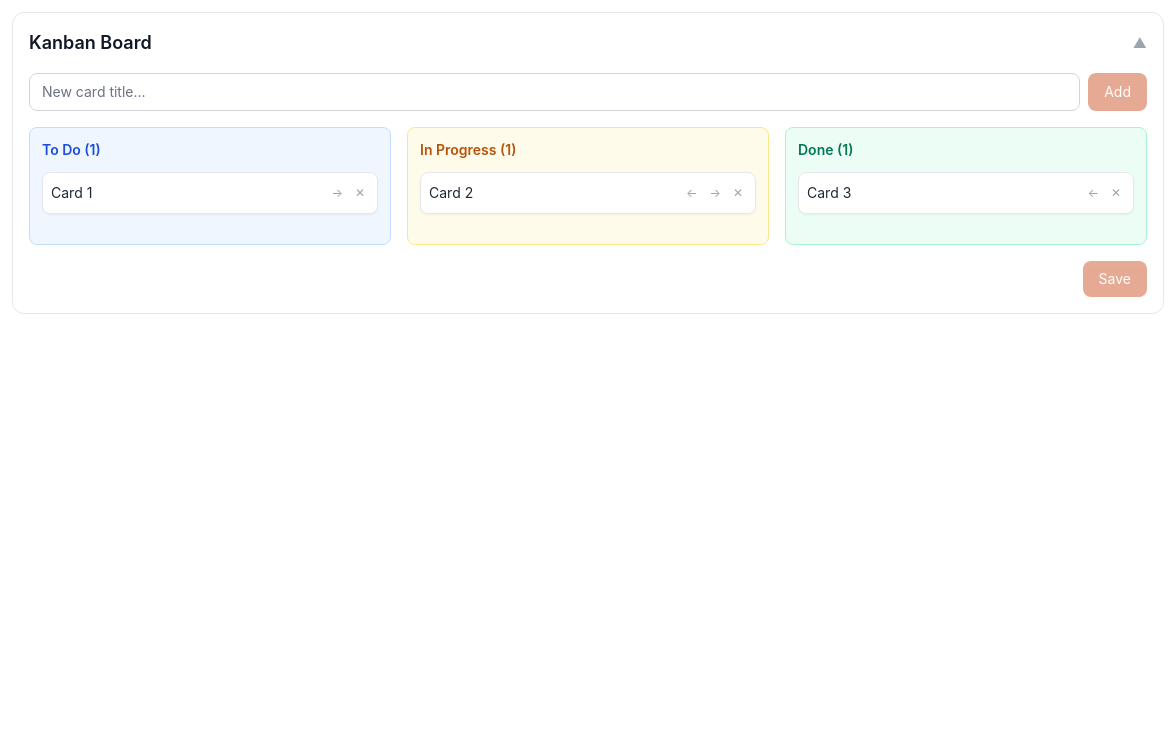
Test: KanbanBoard › shows error toast when save fails
The width and height of the screenshot is (1176, 732).
Type "New card" into the field with placeholder "New card title...".
click(555, 92); type("New card")  # box [29,73,1080,111]
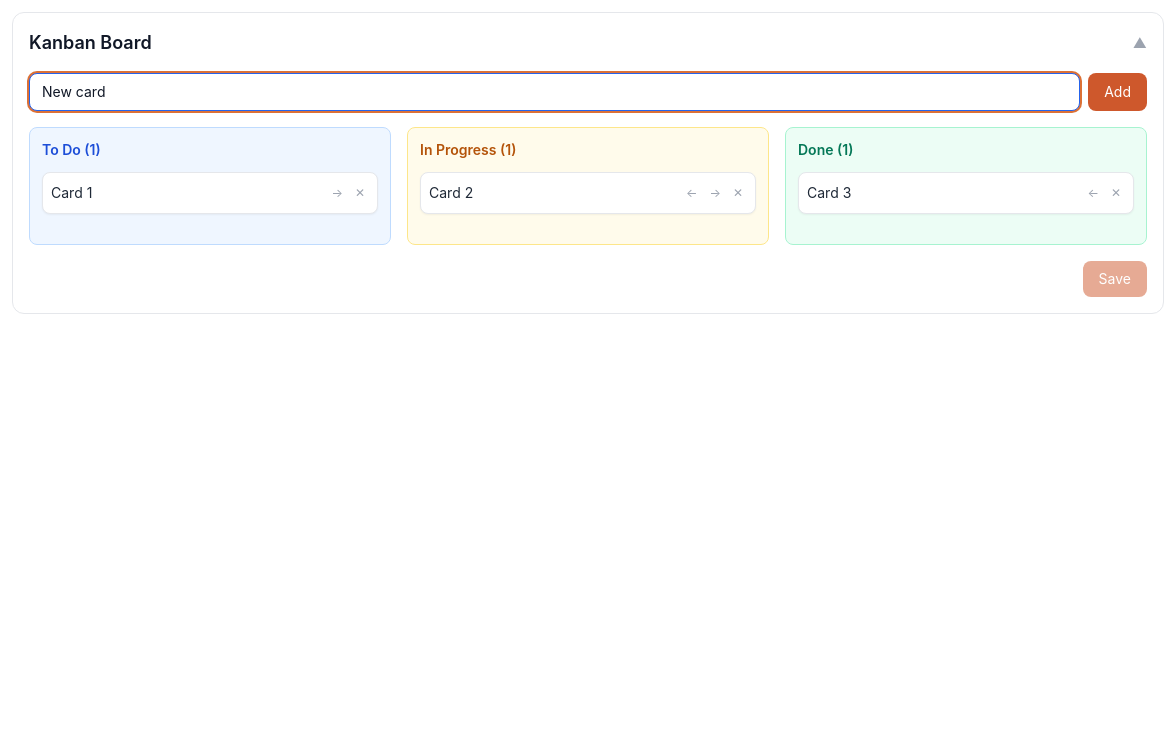
Click the button "Add".
click(1118, 92)  # box [1088,73,1147,111]
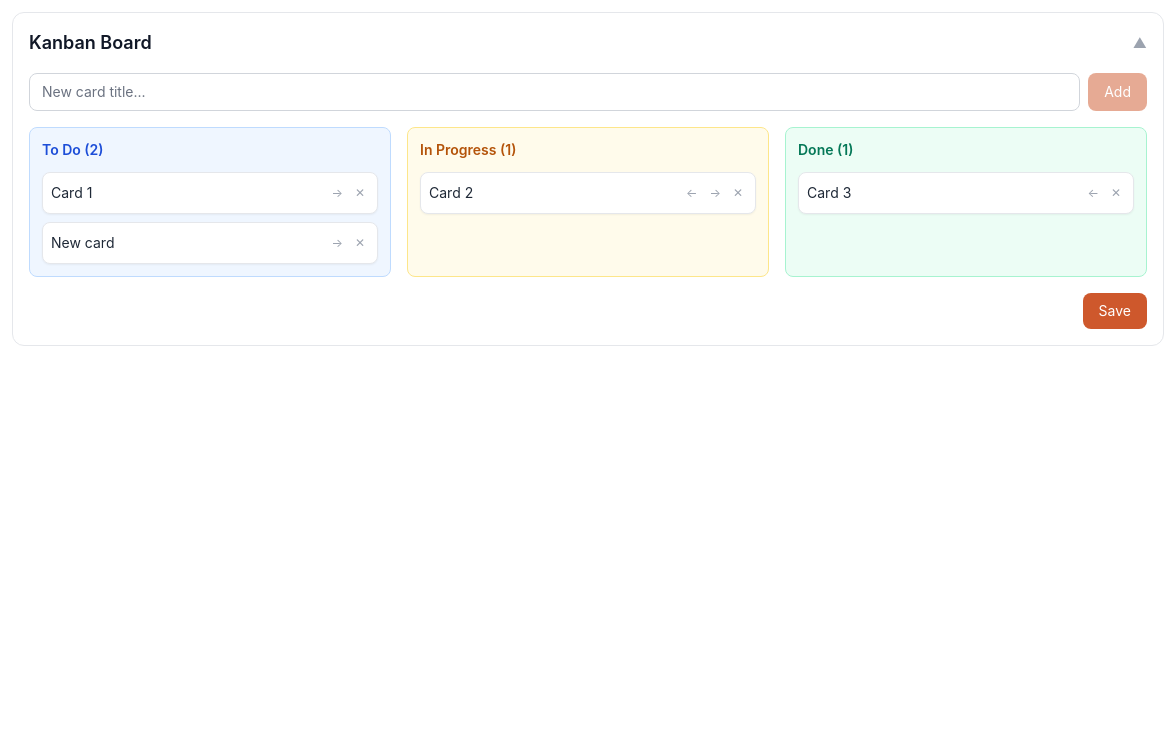
Click the button "Save".
click(1115, 311)  # box [1083,293,1147,329]
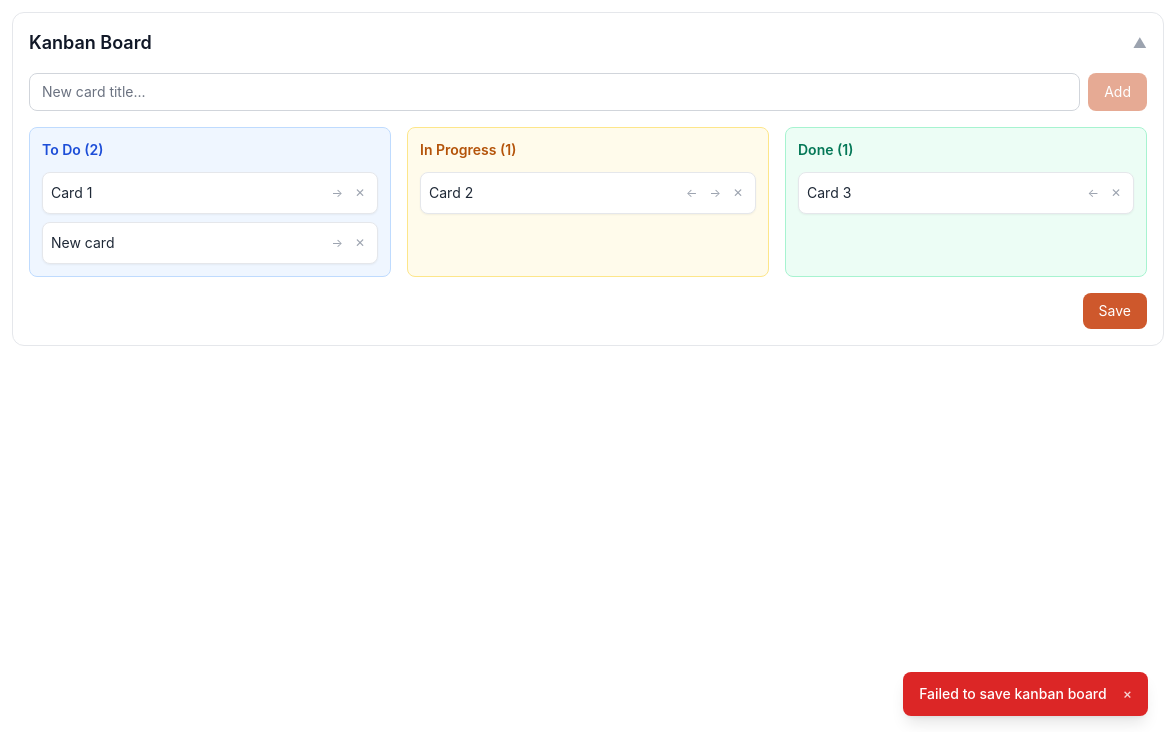
Now the message shows "Failed to save kanban board", box [919,685,1107,702]
